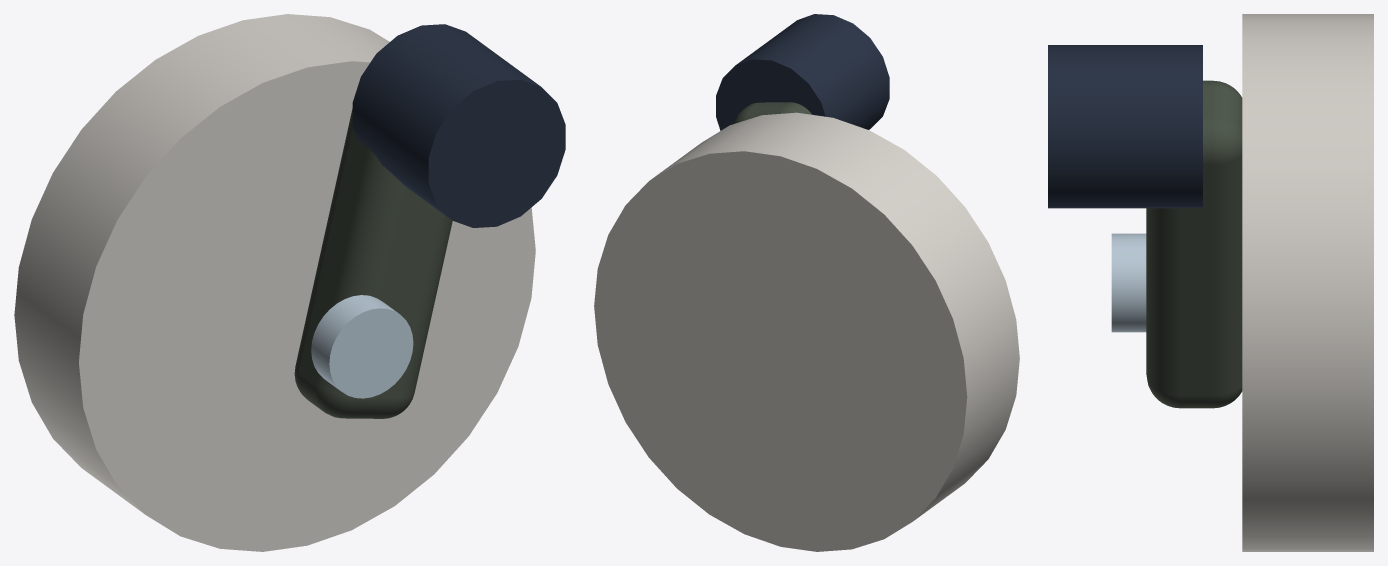
File: crank-garden.glb
3 renders of one model, left to right at view 1: azimuth 30°, elevation 25°; view 2: azimuth 150°, elevation 25°; view 3: azimuth 270°, elevation 25°, orthographic. The views are drawn at different scales.
Parts seen in each view (by area): view 1: Crank_Batch0, Crank_Batch1; view 2: Crank_Batch0; view 3: Crank_Batch0, Crank_Batch1.
Part boxes in pixels (<box>): Crank_Batch0: <box>14,14,565,551</box>; Crank_Batch1: <box>311,295,413,398</box>; Crank_Batch0: <box>594,14,1019,551</box>; Crank_Batch0: <box>1048,14,1373,551</box>; Crank_Batch1: <box>1111,233,1146,332</box>.
Bounding box in the file's own units: 0.0348 × 0.0372 × 0.021.
